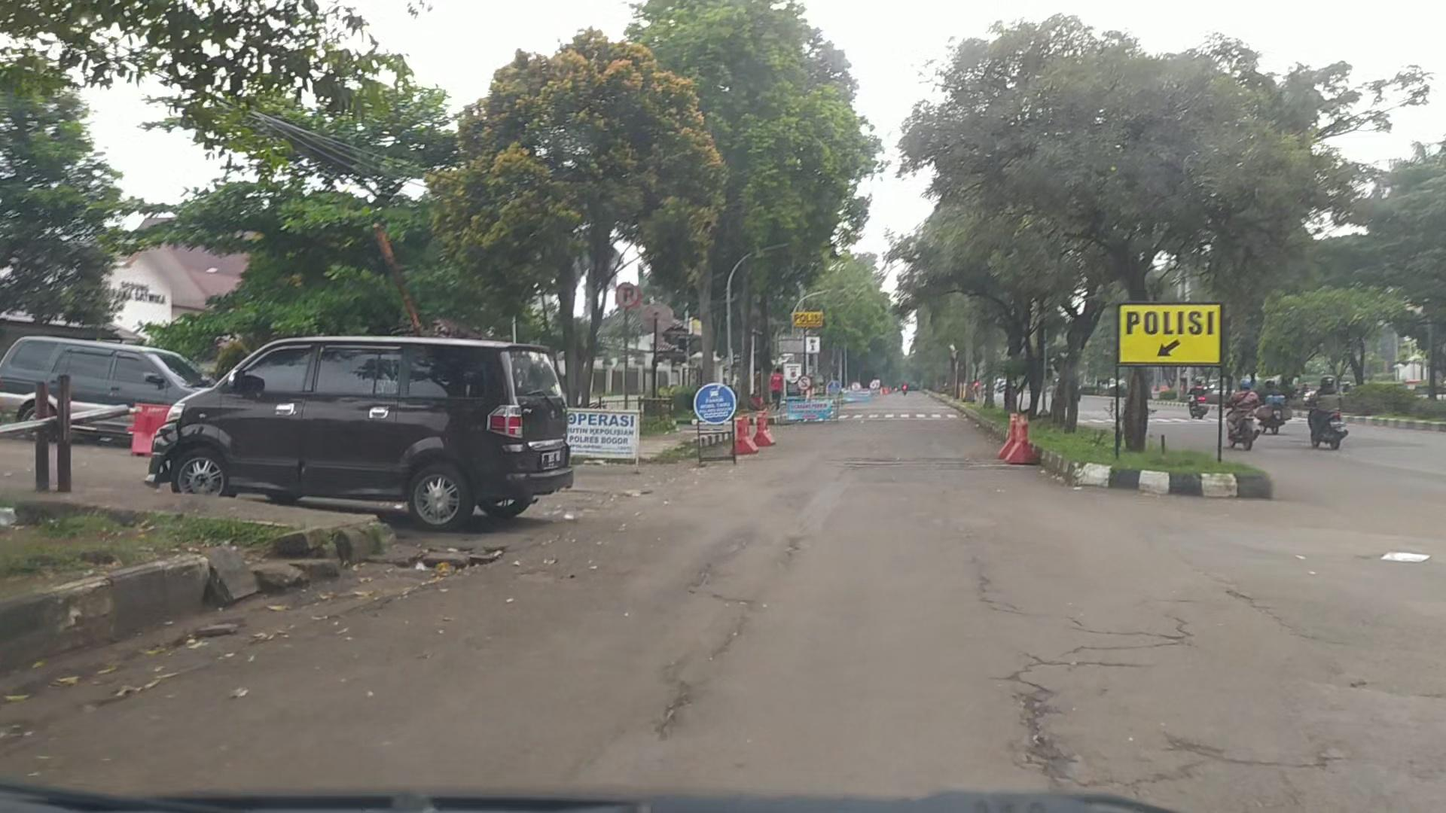pothole: (367, 542, 510, 582)
